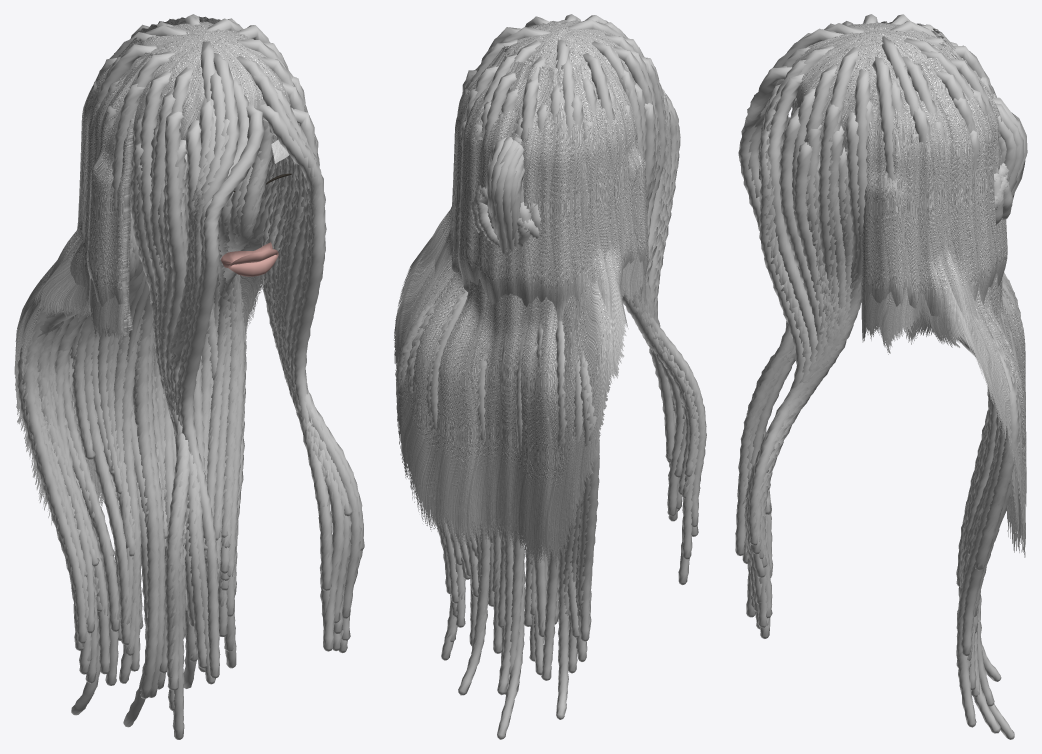
File: NC_Head_Female.fbx
3 views of the same model, side by side, from view 1: azimuth 30°, elevation 25°; view 2: azimuth 150°, elevation 25°; view 3: azimuth 270°, elevation 25° (orthographic). The views are drawn at different scales.
Visible parts, largest first — view 1: Hair_Locs_2, Hair_Locs_6, Hair_Locs_3, Hair_Locs_Cap_6, Hair_Locs_5, Hair_Locs_Cap_4, Hair_Locs_Cap_5, Hair_Bob_2, Hair_Locs_Cap_3, Hair_Locs, Hair_Locs_4, Hair_Locs_Cap_2 (+6 smaller); view 2: Hair_LongStraight_2, Hair_Bob_2, Hair_Locs_4, Hair_Locs_6, Hair_Locs_2, Hair_Locs_3, Hair_Locs_Cap_5, Hair_Locs, Hair_Locs_5, Hair_Locs_Cap_2, Hair_Locs_Cap_6, Hair_Ponytail (+6 smaller); view 3: Hair_Bob_2, Hair_LongStraight_2, Hair_Locs_3, Hair_Locs_2, Hair_Locs_6, Hair_Locs_5, Hair_Locs_4, Hair_Locs, Hair_Locs_Cap_2, Hair_Locs_Cap_4, Hair_Locs_Cap_6, Hair_Locs_Cap_3 (+6 smaller).
Part boxes in pixels (bbox=[...]): Hair_Locs_2: bbox=[42, 18, 352, 710]; Hair_Locs_6: bbox=[37, 15, 363, 633]; Hair_Locs_3: bbox=[37, 32, 349, 671]; Hair_Locs_Cap_6: bbox=[19, 120, 351, 739]; Hair_Locs_5: bbox=[36, 21, 361, 695]; Hair_Locs_Cap_4: bbox=[34, 136, 364, 697]; Hair_Locs_Cap_5: bbox=[37, 123, 274, 690]; Hair_Bob_2: bbox=[39, 16, 263, 337]; Hair_Locs_Cap_3: bbox=[18, 163, 297, 727]; Hair_Locs: bbox=[122, 21, 290, 655]; Hair_Locs_4: bbox=[17, 14, 362, 715]; Hair_Locs_Cap_2: bbox=[36, 154, 350, 688]; Hair_LongStraight_2: bbox=[394, 46, 646, 568]; Hair_Bob_2: bbox=[417, 41, 648, 321]; Hair_Locs_4: bbox=[437, 16, 697, 719]; Hair_Locs_6: bbox=[400, 14, 690, 653]; Hair_Locs_2: bbox=[395, 15, 699, 657]; Hair_Locs_3: bbox=[405, 38, 680, 661]; Hair_Locs_Cap_5: bbox=[400, 276, 698, 627]; Hair_Locs: bbox=[398, 20, 706, 643]; Hair_Locs_5: bbox=[461, 19, 677, 694]; Hair_Locs_Cap_2: bbox=[397, 294, 683, 695]; Hair_Locs_Cap_6: bbox=[396, 302, 689, 680]; Hair_Ponytail: bbox=[486, 136, 524, 408]; Hair_Bob_2: bbox=[861, 21, 1007, 345]; Hair_LongStraight_2: bbox=[861, 21, 1026, 557]; Hair_Locs_3: bbox=[738, 21, 1025, 703]; Hair_Locs_2: bbox=[735, 14, 1020, 656]; Hair_Locs_6: bbox=[744, 33, 1025, 607]; Hair_Locs_5: bbox=[742, 14, 1010, 698]; Hair_Locs_4: bbox=[751, 36, 1022, 706]; Hair_Locs: bbox=[761, 23, 1018, 549]; Hair_Locs_Cap_2: bbox=[745, 149, 1015, 733]; Hair_Locs_Cap_4: bbox=[746, 148, 1018, 697]; Hair_Locs_Cap_6: bbox=[753, 147, 1022, 673]; Hair_Locs_Cap_3: bbox=[766, 224, 1014, 739].
Size of the model in its own units: 0.9344 by 2.61 by 0.9709.
Materials: 4 (2 with a texture image).
